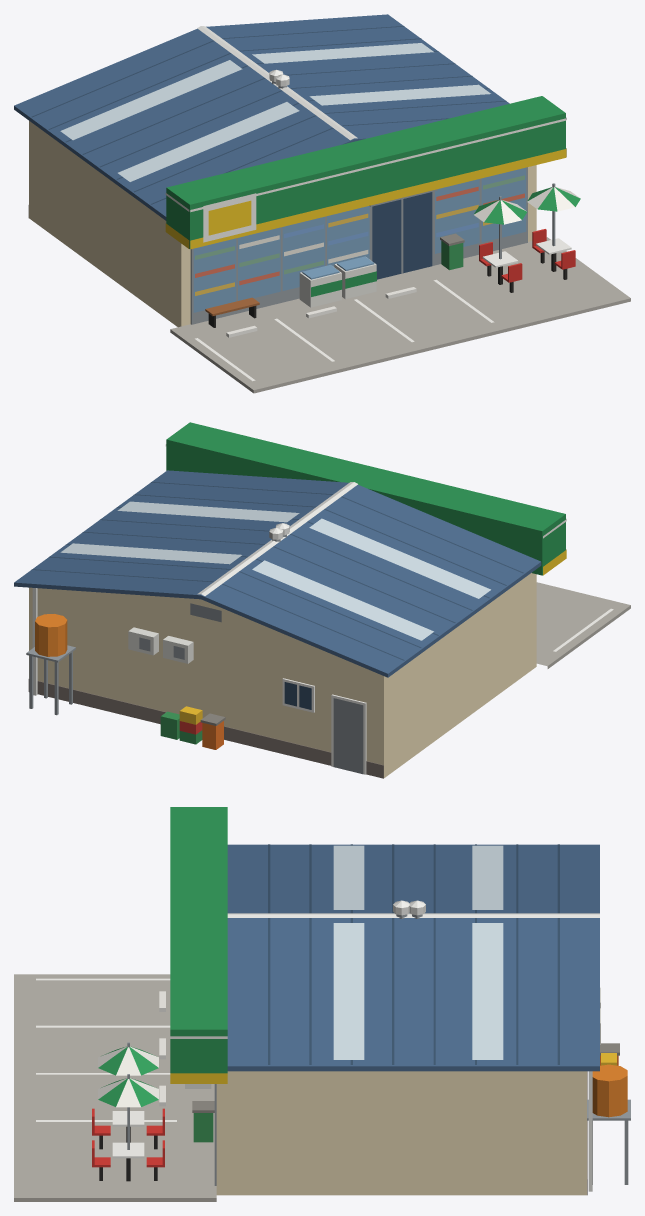
The model's file is toko_01.glb.
3 renders of one model, top to bottom at view 1: azimuth 30°, elevation 25°; view 2: azimuth 150°, elevation 25°; view 3: azimuth 270°, elevation 25°, orthographic. The views are drawn at different scales.
Parts seen in each view (by area): view 1: toko_01; view 2: toko_01; view 3: toko_01.
Boxes of the visible parts, <box> form: toko_01: <box>14,14,630,393</box>; toko_01: <box>14,422,630,778</box>; toko_01: <box>14,807,630,1201</box>.
Bounding box in the file's own units: 12 × 4.75 × 14.
